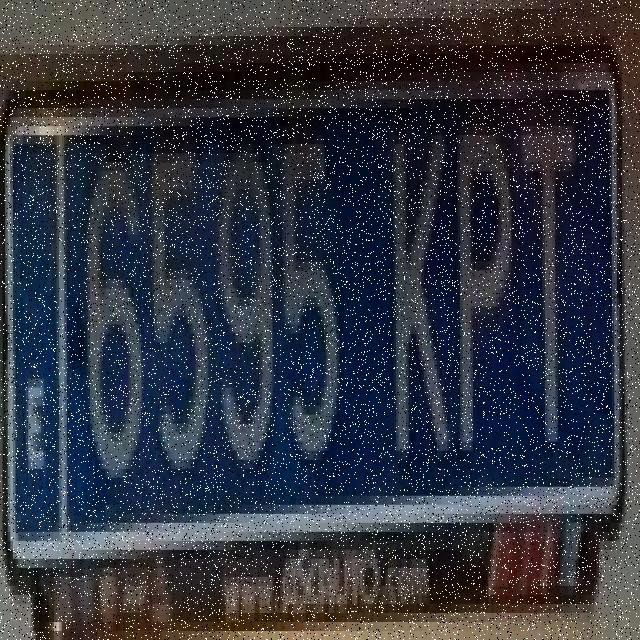licenseplate: (2, 48, 625, 568)
